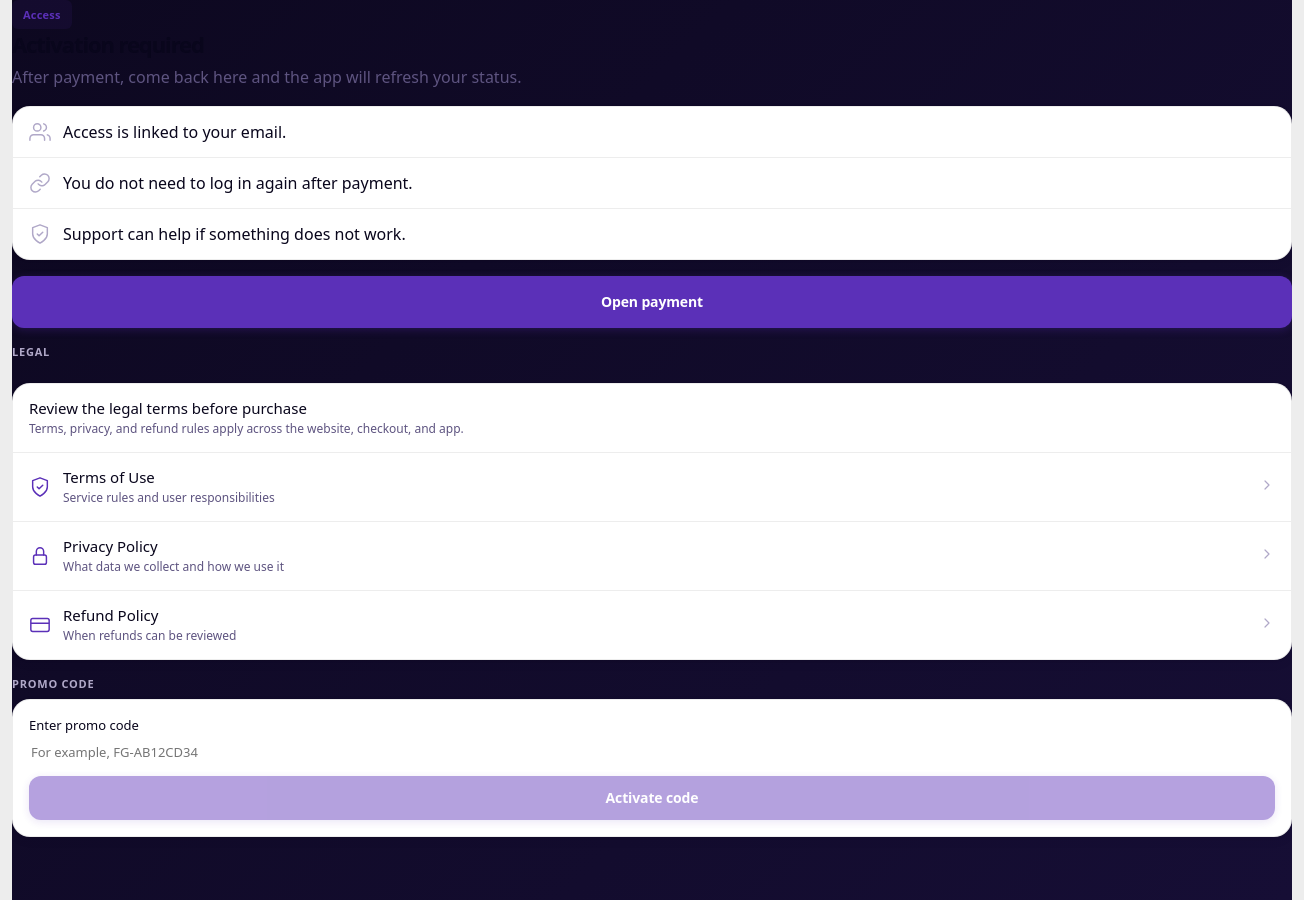
PaywallPage › inactive access shows error when app-origin checkout cannot start
The width and height of the screenshot is (1304, 900).
Click the button "Open payment": x=652, y=302 top-left (12, 276), bottom-right (1292, 328)
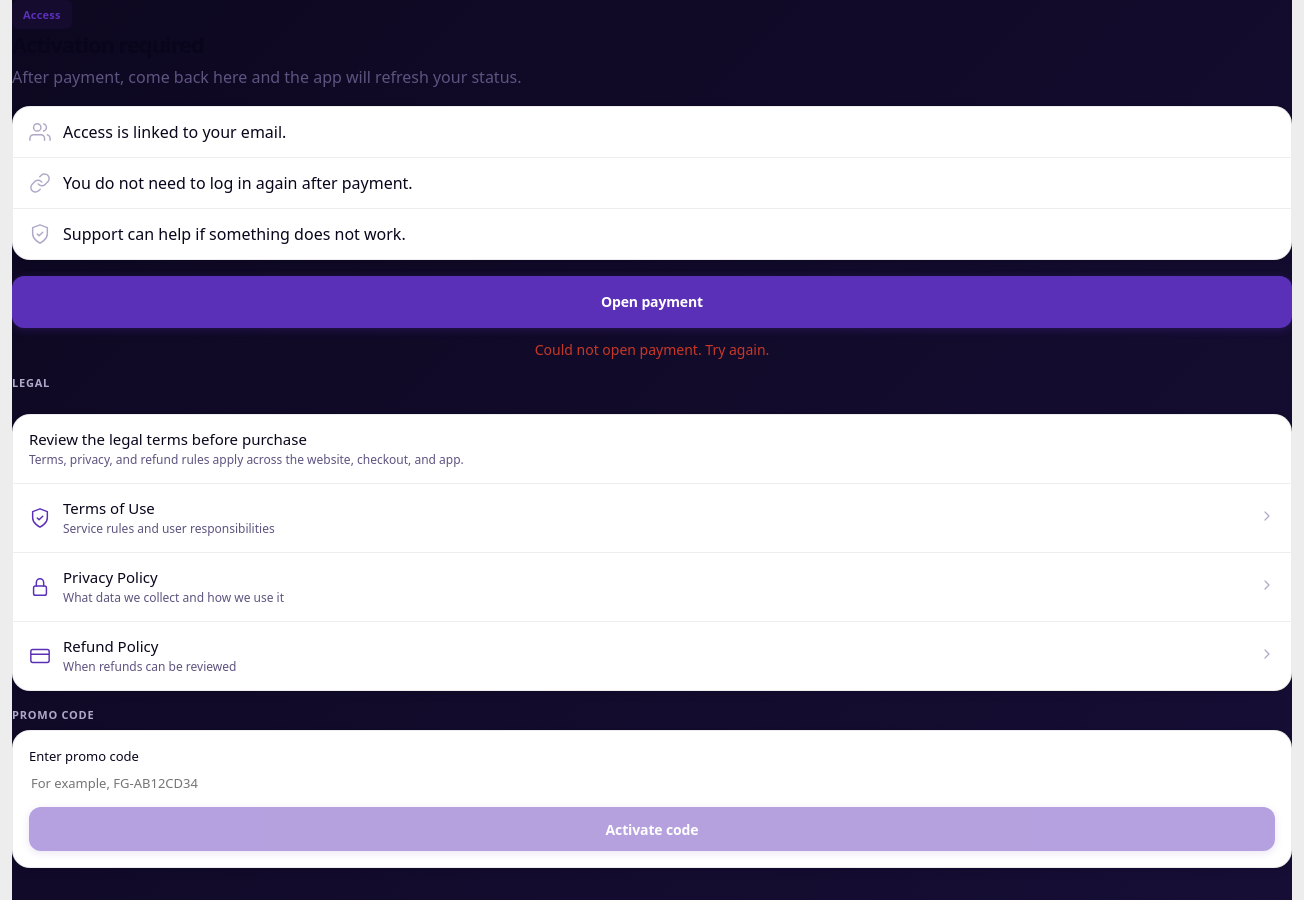
Expected: the text "Could not open payment. Try again." is shown, top-left (535, 340), bottom-right (769, 359)
